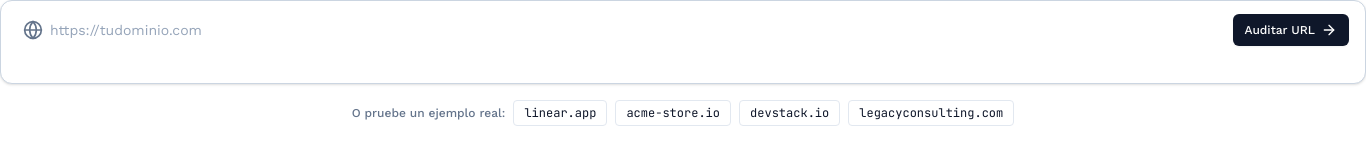
Test case: AuditForm client-side Zod validation (ADF-2) › blocks submit and shows 'Formato de URL inválido' with role=alert
The width and height of the screenshot is (1366, 160).
Type "not a url" into the field named "URL del sitio".
click(683, 30); type("not a url")  # box [9,9,1357,51]
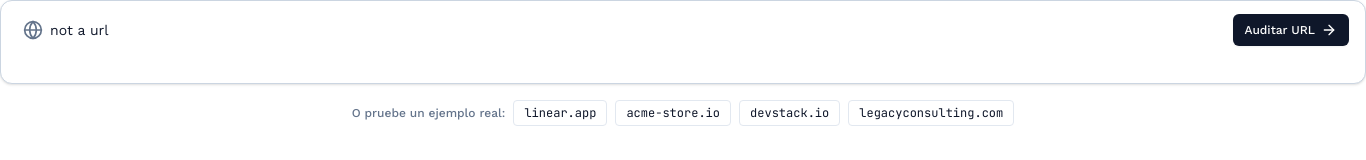
Click the button "Auditar URL".
click(1291, 30)  # box [1232,14,1349,46]
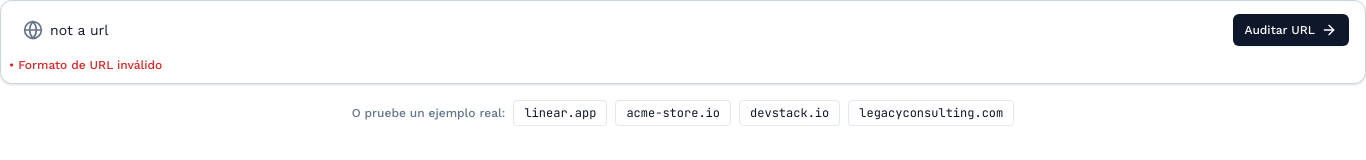
Now the message shows "Formato de URL inválido", box [18,58,162,72]
